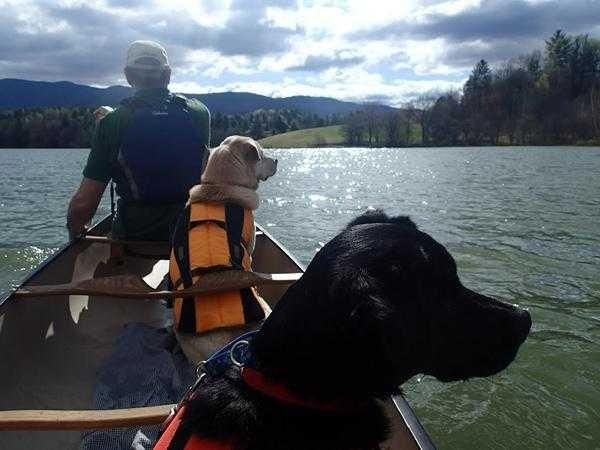kayak: (2, 205, 534, 447)
